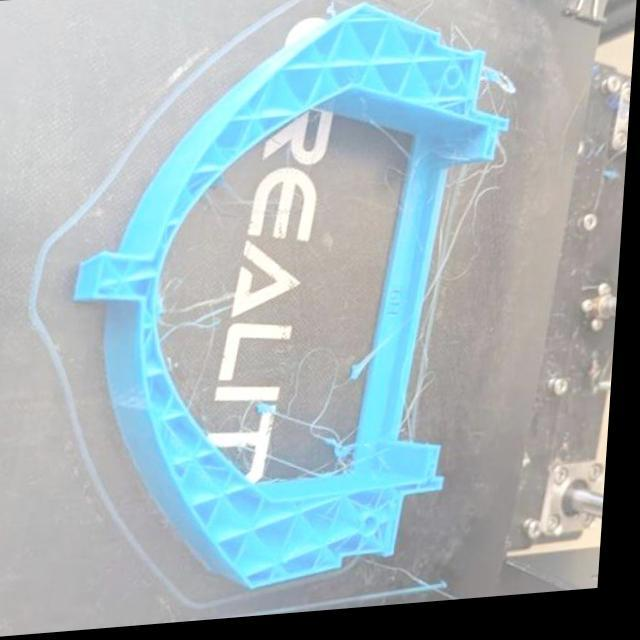stringing: (351, 158, 509, 396), (252, 396, 348, 453), (399, 376, 447, 446), (167, 299, 231, 342), (332, 436, 370, 480)
